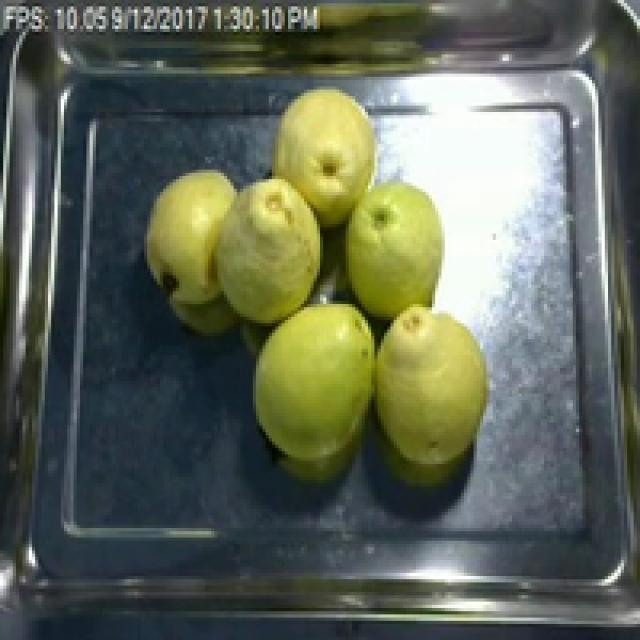Fruit: (138, 163, 332, 339), (243, 291, 378, 490), (368, 298, 499, 480), (330, 170, 458, 339), (260, 74, 390, 236)
